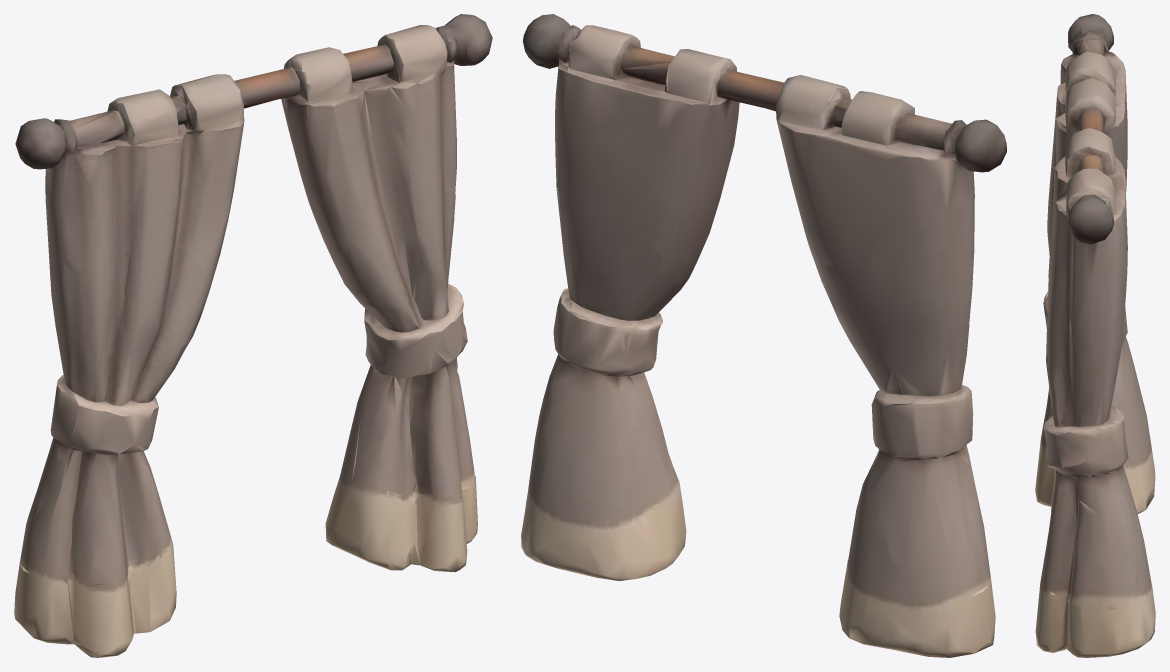
File: curtain21.glb
3 renders of one model, left to right at view 1: azimuth 30°, elevation 25°; view 2: azimuth 150°, elevation 25°; view 3: azimuth 270°, elevation 25°, orthographic. The views are drawn at different scales.
Bounding box in the file's own units: 0.2354 × 0.2522 × 0.0591.
1 material, 1 textured.
